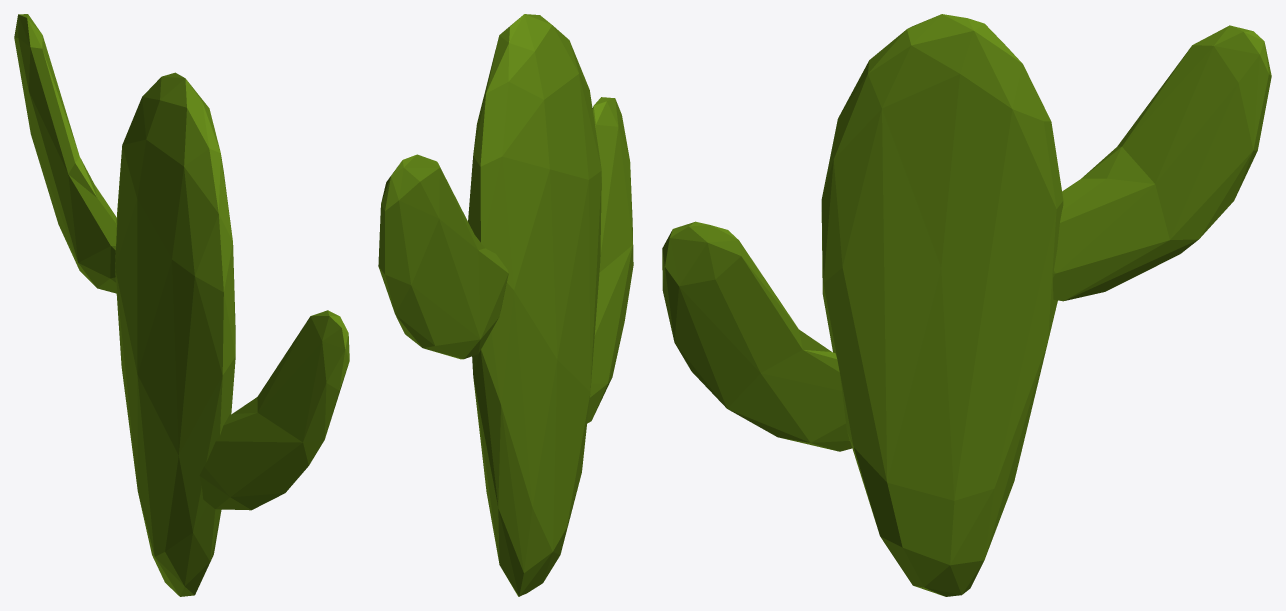
The model's file is cactus.fbx.
The picture shows the model from 3 angles, left to right: view 1: azimuth 30°, elevation 25°; view 2: azimuth 150°, elevation 25°; view 3: azimuth 270°, elevation 25°; orthographic projection. The views are drawn at different scales.
Parts seen in each view (by area): view 1: Cube.005; view 2: Cube.005; view 3: Cube.005.
Part boxes in pixels (bbox=[...]): Cube.005: bbox=[14, 14, 349, 596]; Cube.005: bbox=[378, 14, 633, 596]; Cube.005: bbox=[662, 14, 1271, 596].
Size of the model in its own units: 40.15 by 231 by 218.
